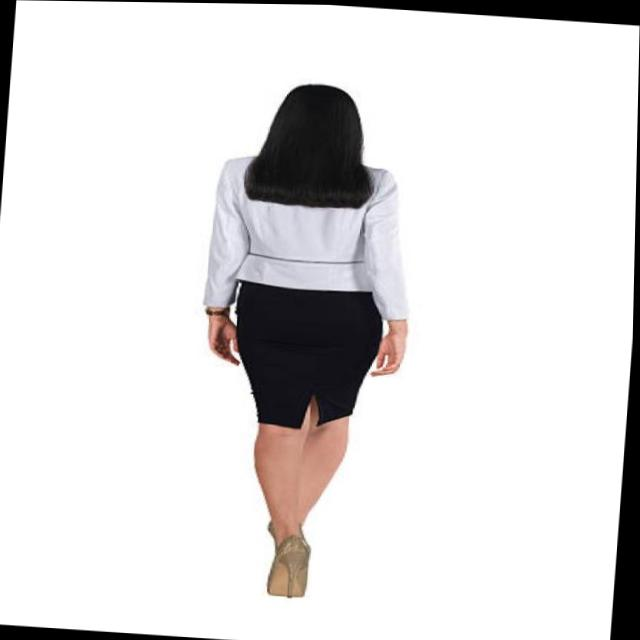no helmet: (235, 63, 397, 212)
